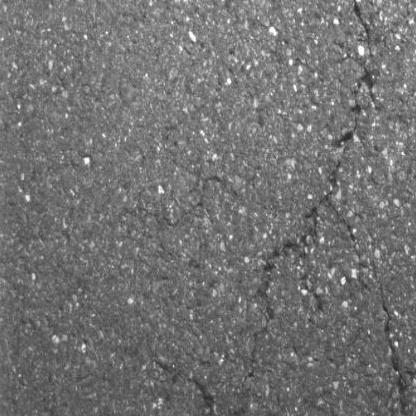Cracks: (274, 162, 362, 260), (336, 0, 378, 150), (371, 261, 409, 416), (188, 375, 220, 416)
